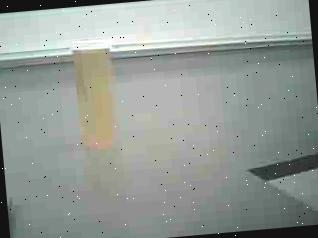Bottle A: (63, 29, 123, 159)
